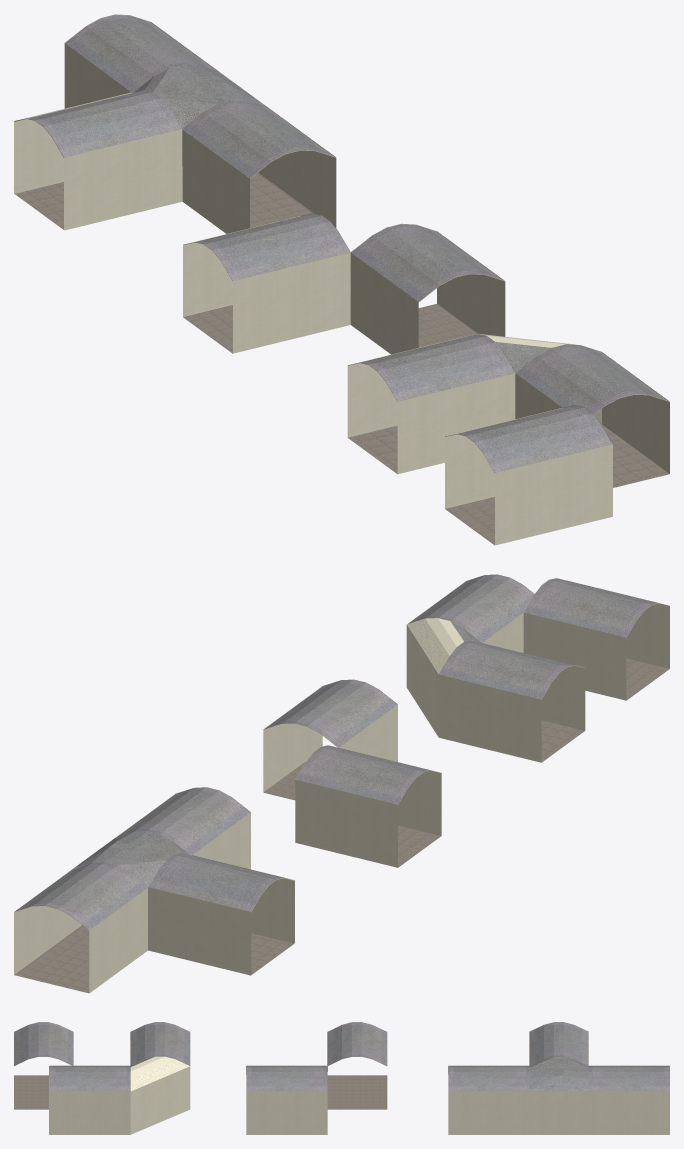
The model's file is BunkerTunnels.fbx.
The picture shows the model from 3 angles, top to bottom: view 1: azimuth 30°, elevation 25°; view 2: azimuth 150°, elevation 25°; view 3: azimuth 270°, elevation 25°; orthographic projection. The views are drawn at different scales.
Parts seen in each view (by area): view 1: Plane.001, Plane.002, Plane, Plane.004, Plane.003; view 2: Plane.001, Plane.002, Plane.004, Plane, Plane.003; view 3: Plane.001, Plane.002, Plane.003, Plane.004, Plane.
Boxes of the visible parts, x1,y1,x2,y2 form: Plane.001: (14,14,336,233); Plane.002: (347,334,669,487); Plane: (445,405,612,545); Plane.004: (183,213,350,353); Plane.003: (350,223,505,354); Plane.001: (14,787,294,993); Plane.002: (406,574,585,762); Plane.004: (295,745,441,867); Plane: (523,578,669,700); Plane.003: (263,679,397,800); Plane.001: (448,1022,669,1134); Plane.002: (49,1022,190,1134); Plane.003: (246,1065,327,1134); Plane.004: (327,1022,387,1109); Plane: (14,1022,73,1109).
Size of the model in its own units: 1901 by 786 by 8825.
19 materials, 19 textured.
